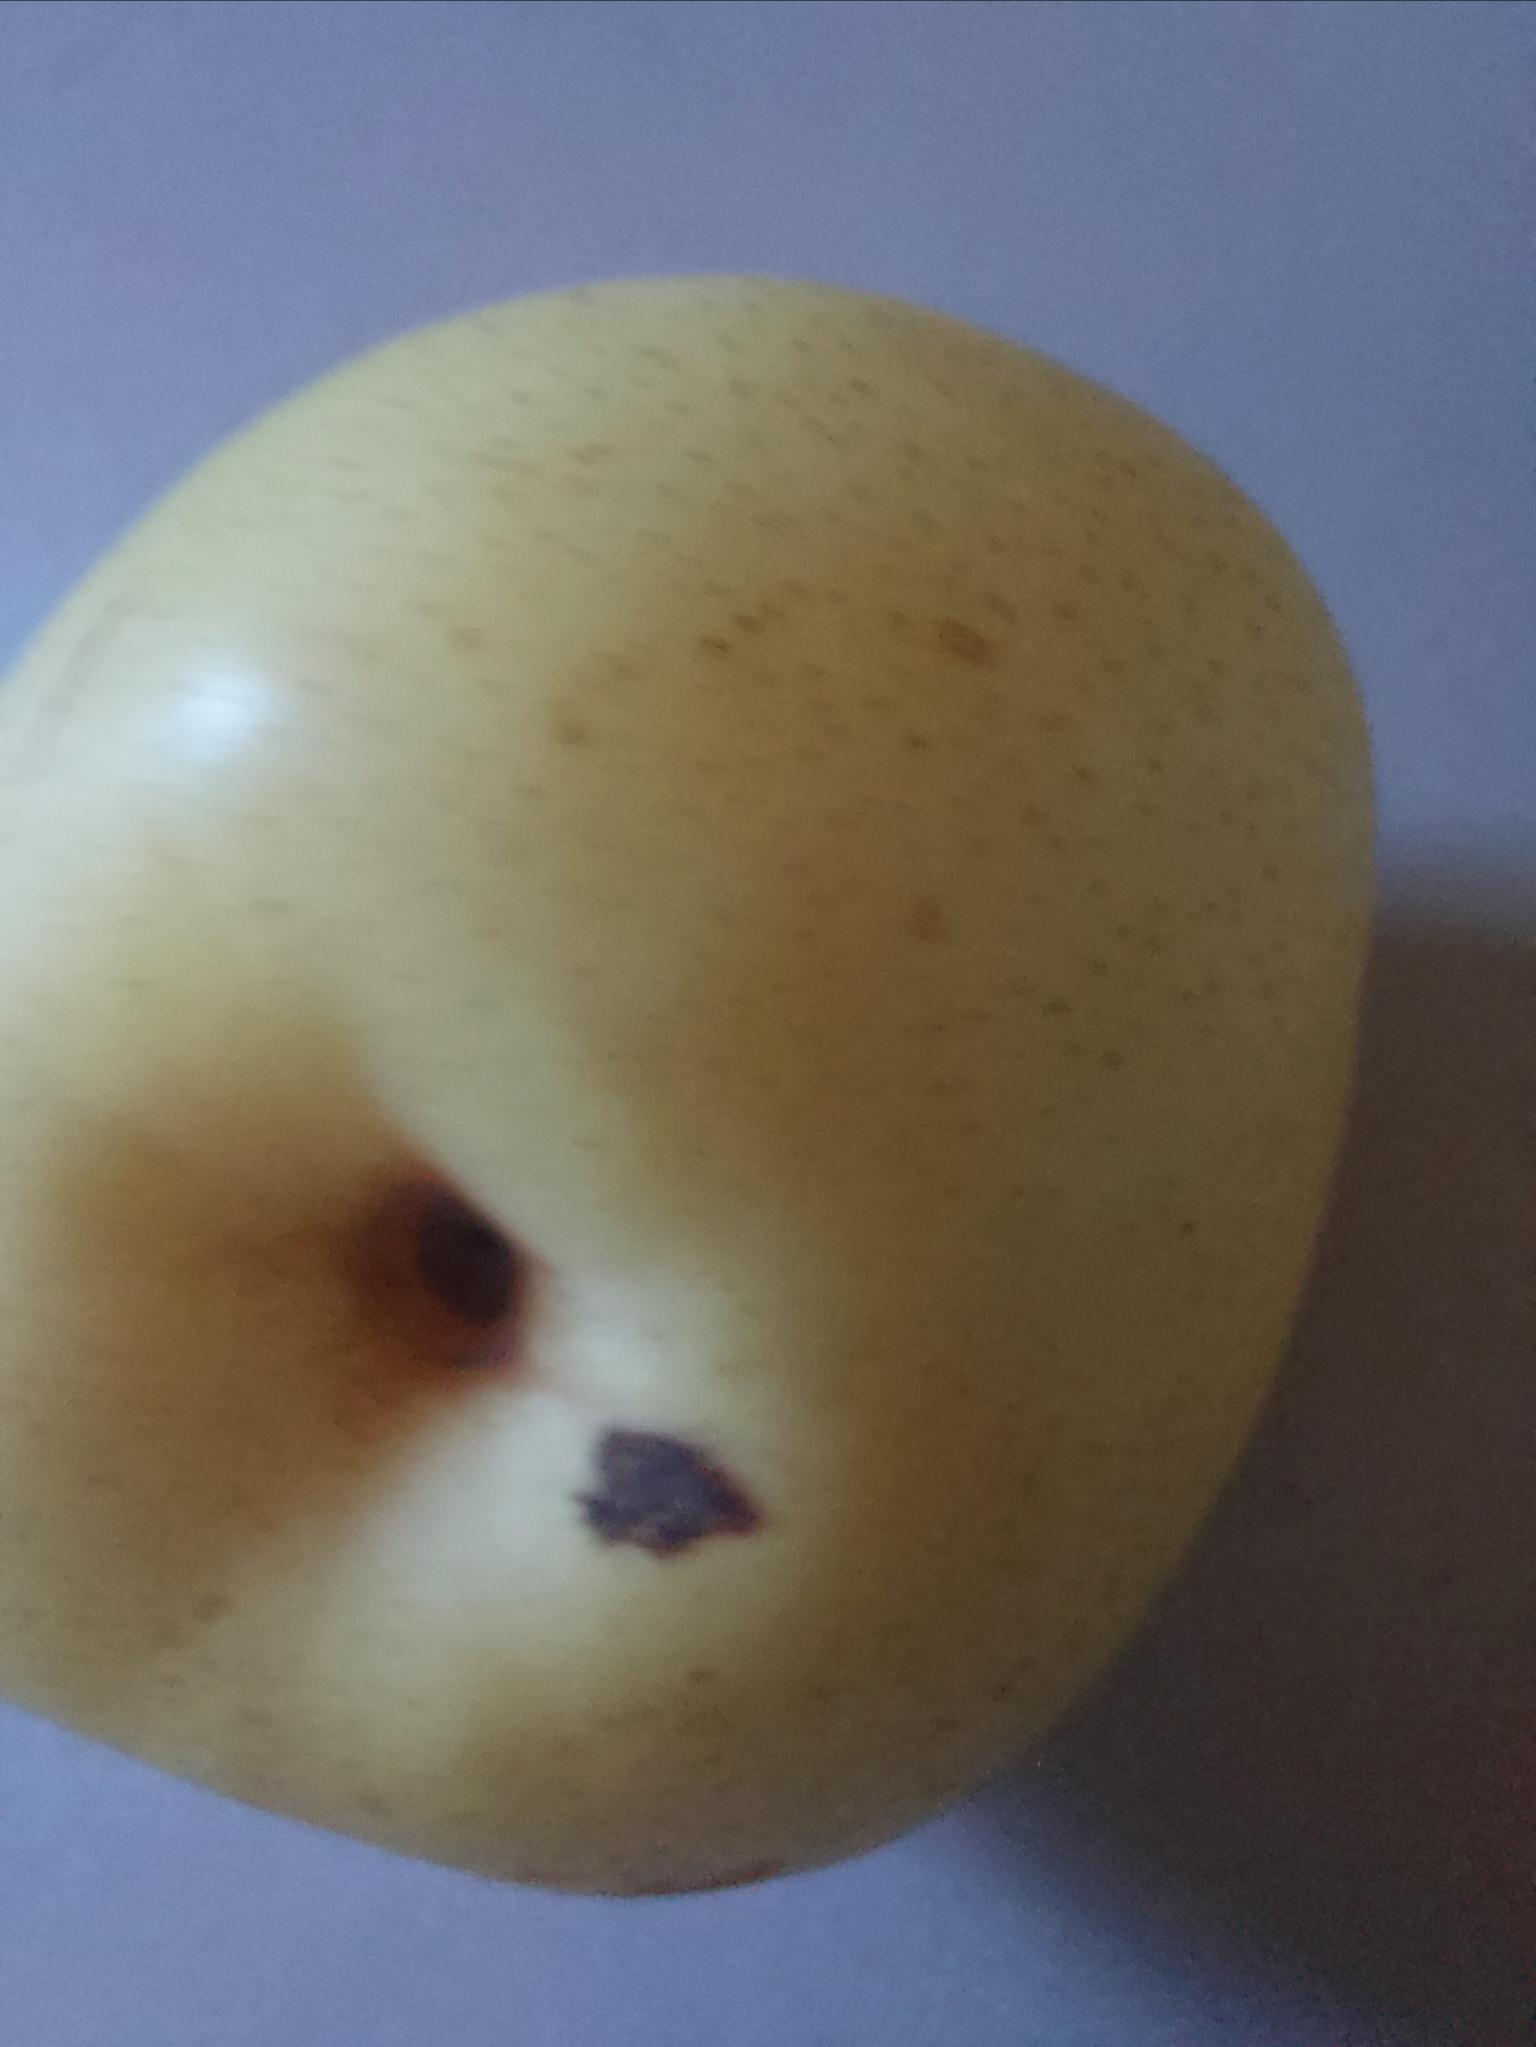Good Pear: (0, 239, 1392, 1900)
